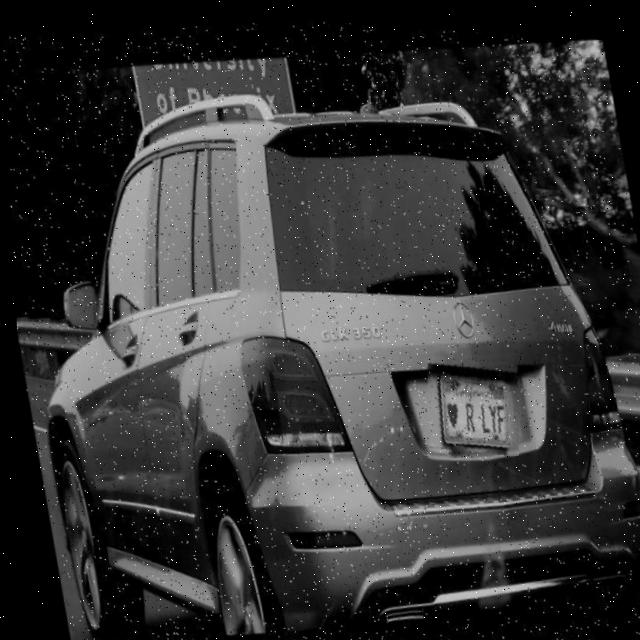LicensePlate: (413, 340, 525, 456)
